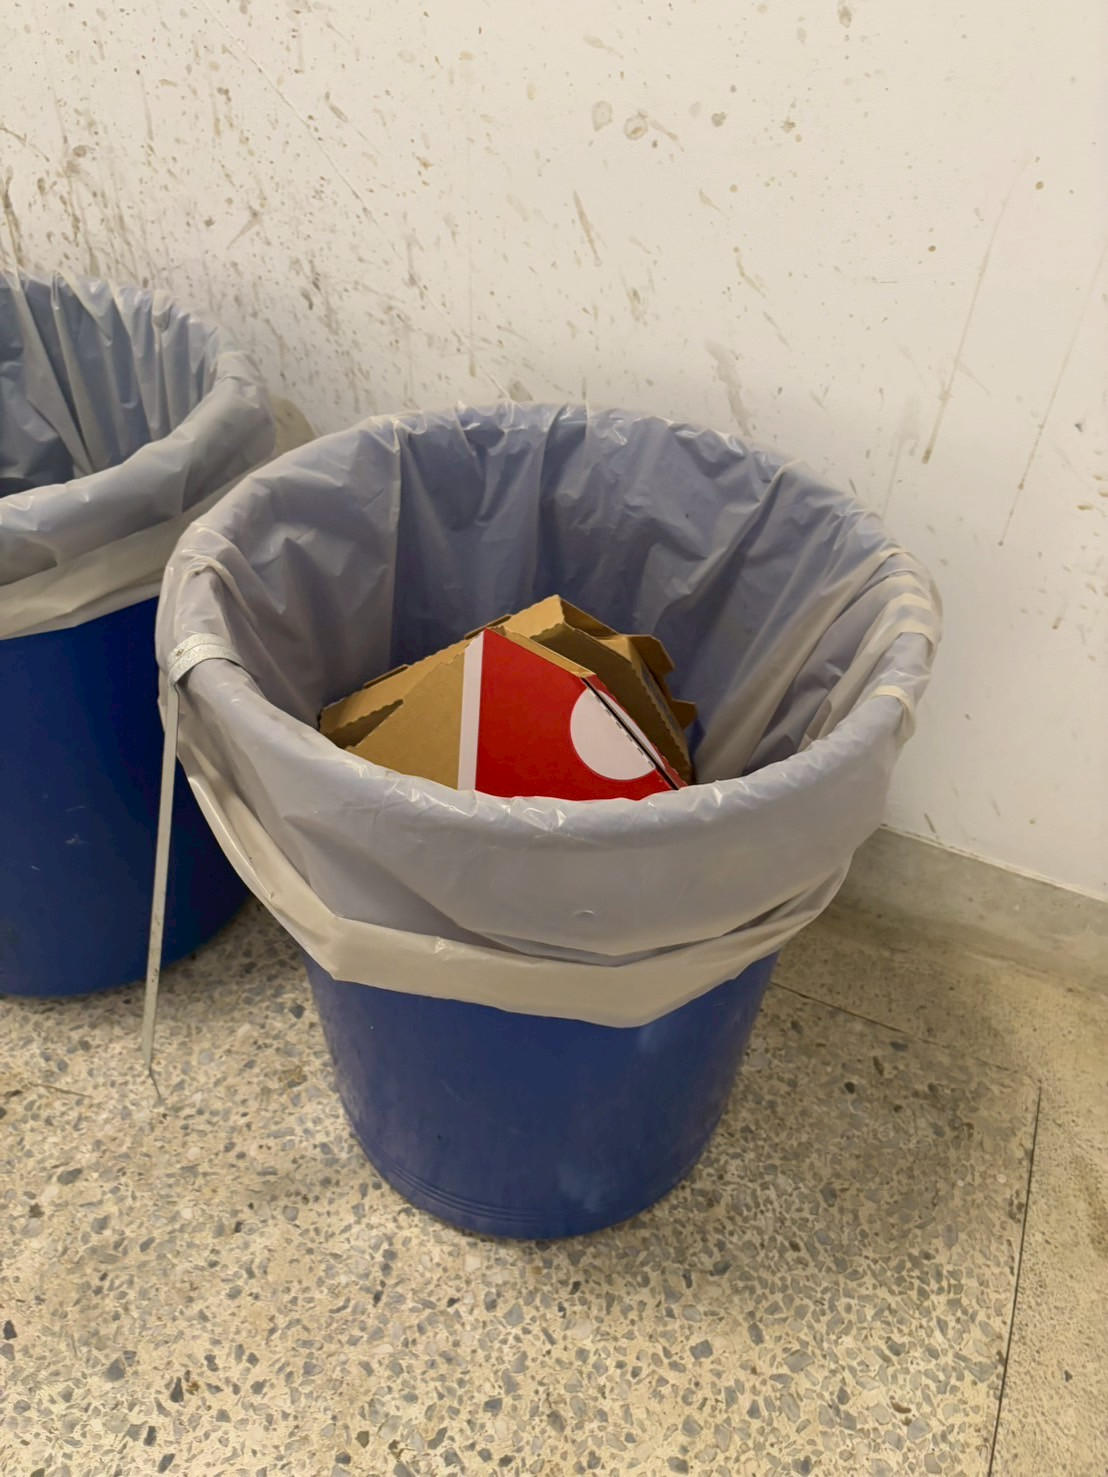overflow_bin: (119, 372, 968, 1267)
